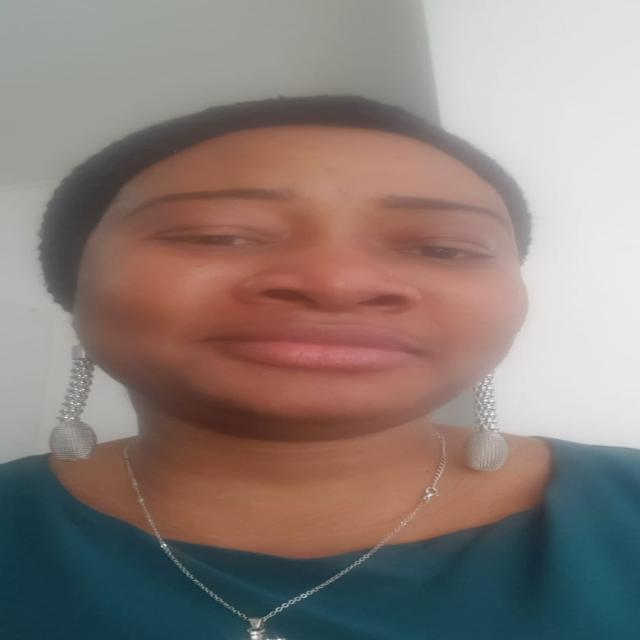sad: (83, 120, 551, 438)
